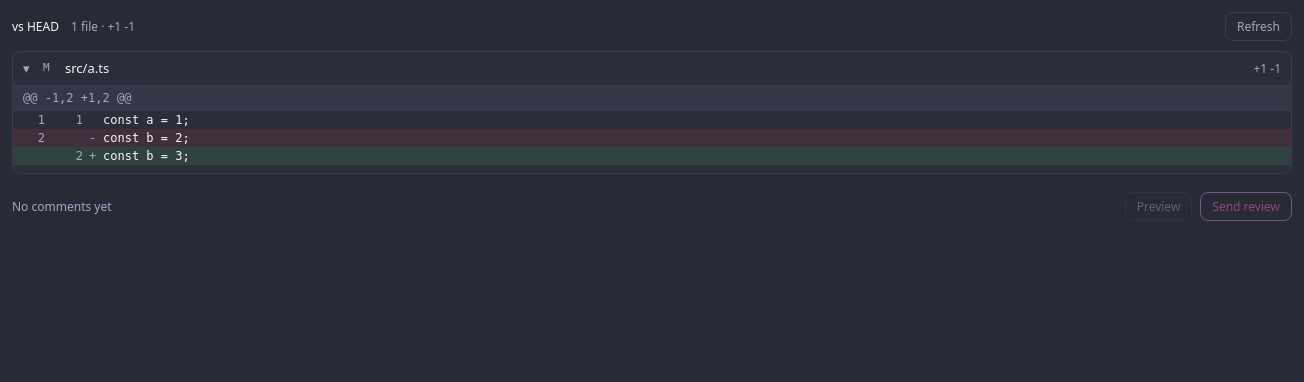
Test: ReviewPanel comments › adds, edits and removes a line comment and counts it on the file
Click the button with aria-label "Comment on line 2": [146, 156] box top-left (13, 147), bottom-right (1291, 165)
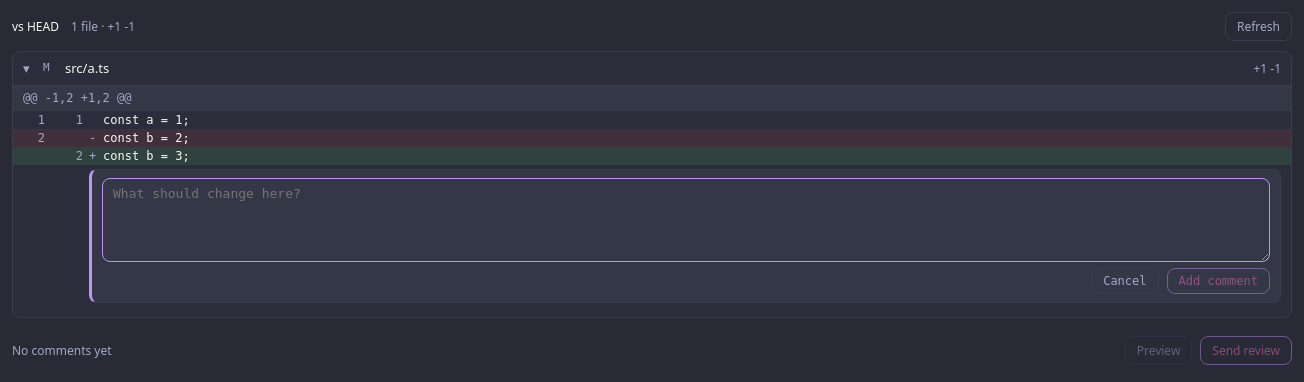
expect the button "Add comment" is disabled: met, box top-left (1166, 268), bottom-right (1270, 294)
In the text box named "Comment": [686, 220] box top-left (102, 178), bottom-right (1270, 262), type "rename this"
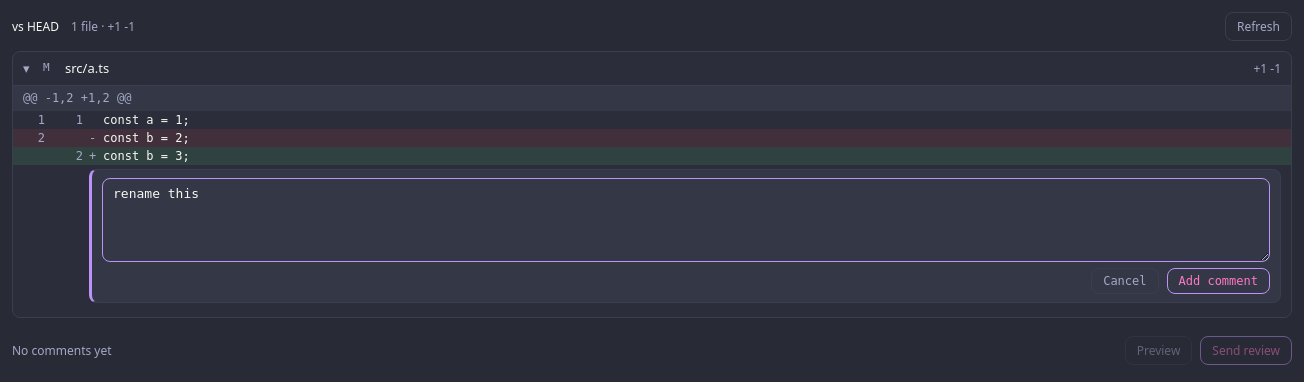
expect the button "Add comment" is enabled: met
Click the button "Add comment": [1218, 281] box top-left (1166, 268), bottom-right (1270, 294)
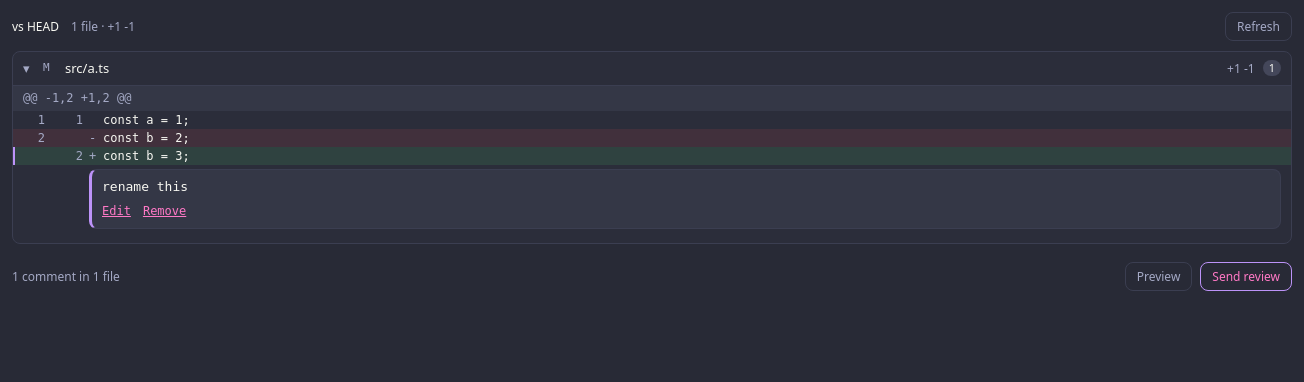
expect the button "▾ M src/a.ts +1 -1 1" is shown: met, box top-left (13, 52), bottom-right (1291, 85)
expect the text "rename this" is shown: met, box top-left (102, 179), bottom-right (188, 194)
expect the text "1 comment in 1 file" is shown: met, box top-left (12, 268), bottom-right (120, 286)
Click the button "Edit": [116, 212] box top-left (102, 203), bottom-right (131, 220)
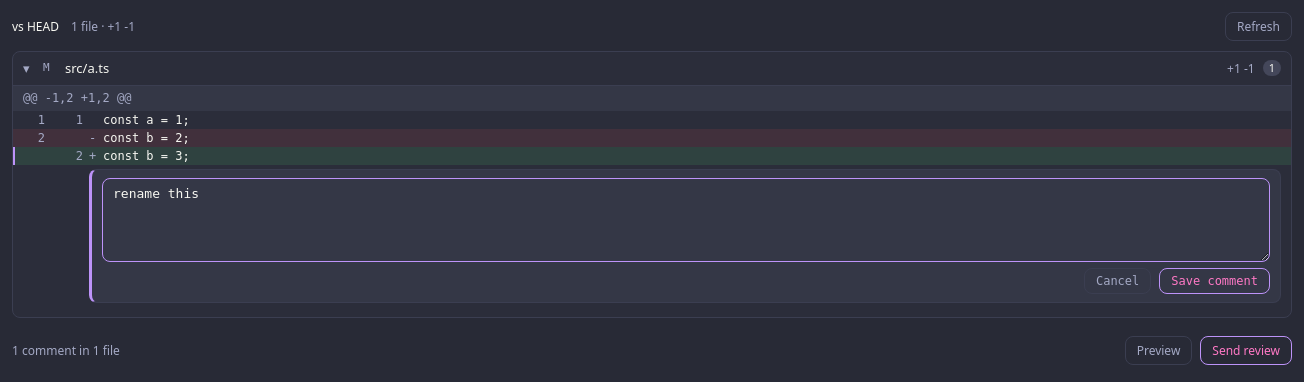
expect the text box named "Comment" holds "rename this": met
Replace the text in the text box named "Comment" with "rename that": [686, 220] box top-left (102, 178), bottom-right (1270, 262)
Click the button "Save comment": [1215, 281] box top-left (1159, 268), bottom-right (1270, 294)
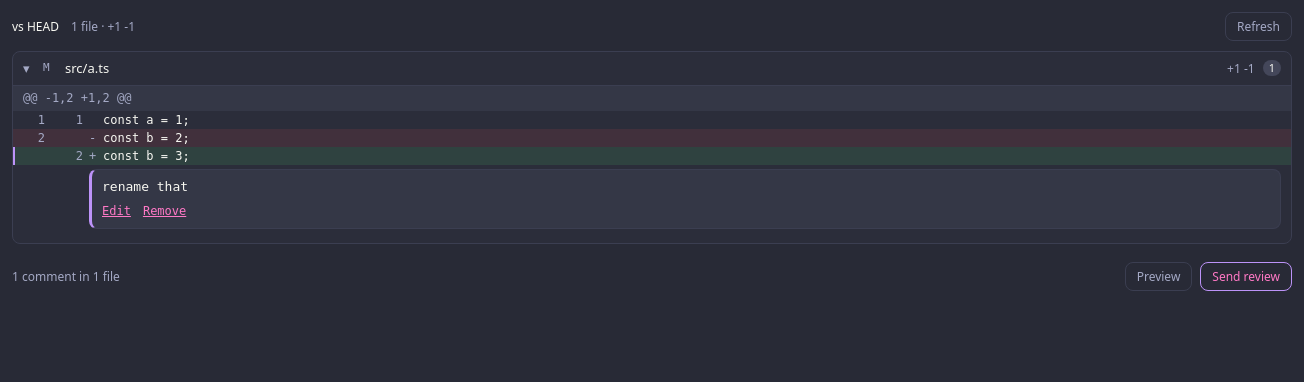
expect the text "rename that" is shown: met, box top-left (102, 179), bottom-right (188, 194)
Click the button "Remove": [165, 212] box top-left (143, 203), bottom-right (186, 220)
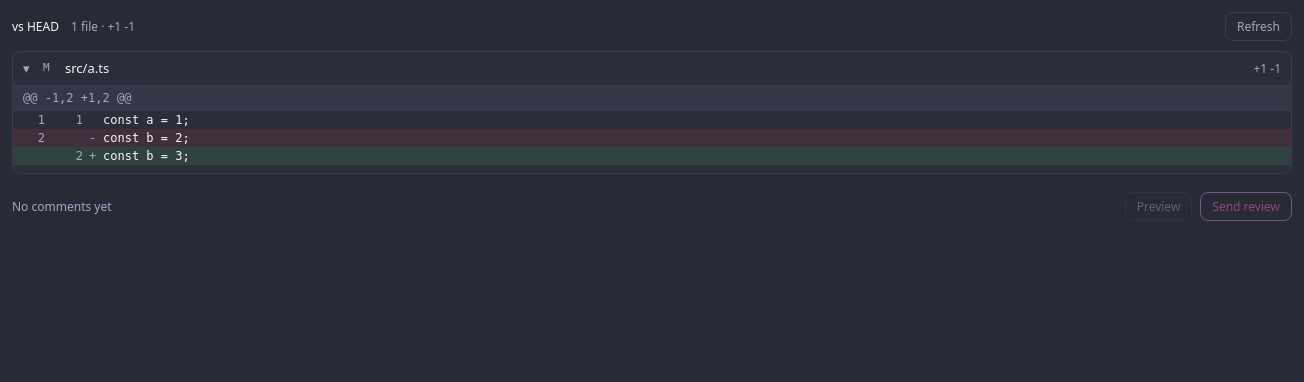
expect the text "rename that" is gone: met
expect the text "No comments yet" is shown: met, box top-left (12, 198), bottom-right (112, 215)
